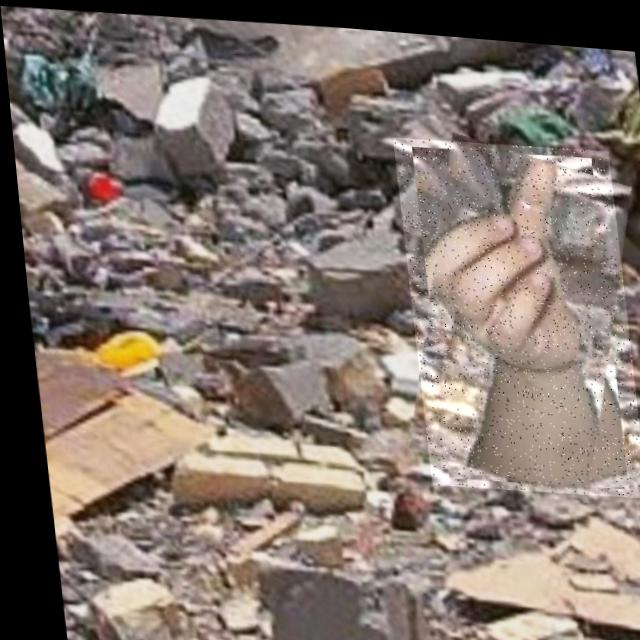Person in Rubble: (390, 127, 639, 492)
